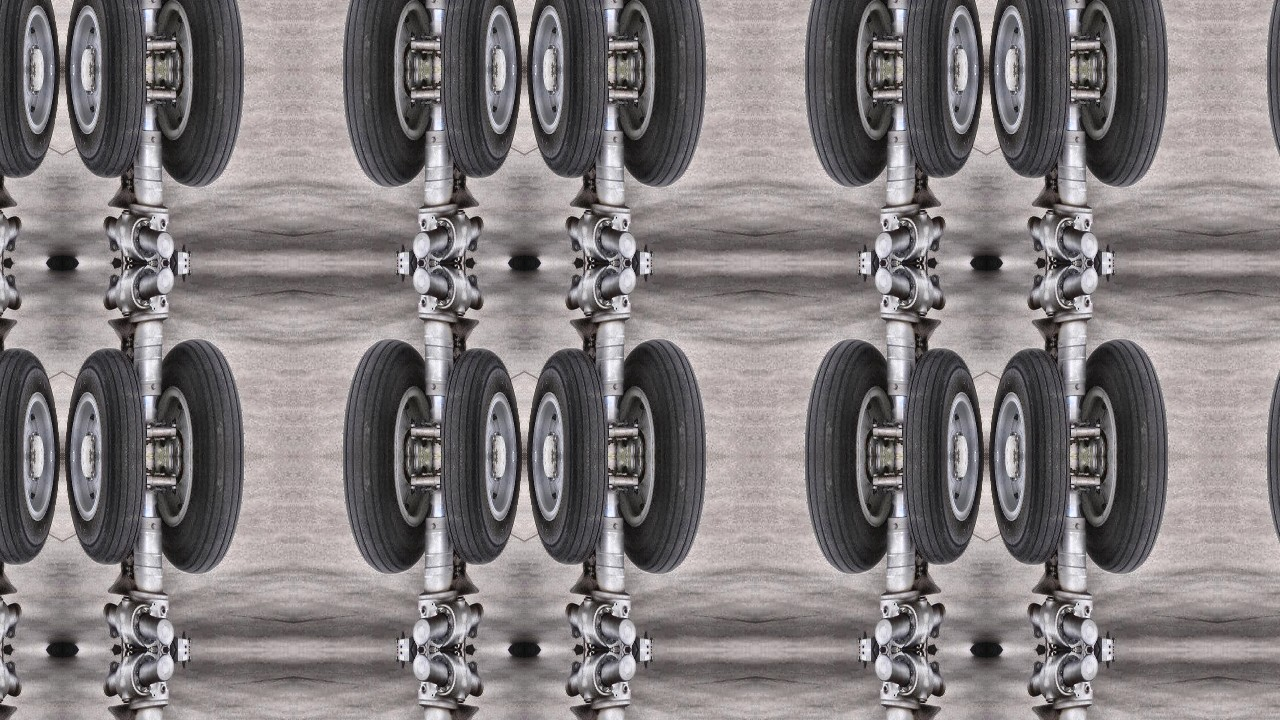wheel: (607, 69, 713, 188), (607, 338, 713, 457), (607, 457, 713, 575), (145, 69, 250, 188), (336, 69, 441, 188), (799, 69, 904, 188), (1070, 69, 1175, 188), (145, 338, 250, 457), (336, 338, 441, 457), (799, 338, 904, 457), (1070, 338, 1175, 457), (145, 457, 250, 575), (336, 457, 441, 575), (799, 457, 904, 575), (1070, 457, 1175, 575), (524, 69, 612, 178), (899, 69, 987, 178), (987, 69, 1075, 178), (524, 348, 612, 457), (899, 348, 987, 457), (987, 348, 1075, 457), (524, 457, 612, 565), (899, 457, 987, 565), (987, 457, 1075, 565), (62, 69, 149, 178), (437, 69, 524, 178), (62, 348, 149, 457), (437, 348, 524, 457), (62, 457, 149, 565), (437, 457, 524, 565), (607, 0, 713, 69), (145, 0, 250, 69), (336, 0, 441, 69), (799, 0, 904, 69), (1070, 0, 1175, 69), (0, 69, 62, 178), (0, 348, 62, 457), (0, 457, 62, 565), (524, 0, 612, 69), (899, 0, 987, 69), (987, 0, 1075, 69), (62, 0, 149, 69), (437, 0, 524, 69), (0, 0, 62, 69), (1261, 69, 1280, 188), (1261, 338, 1280, 457), (1261, 457, 1280, 575), (1261, 0, 1280, 69)
